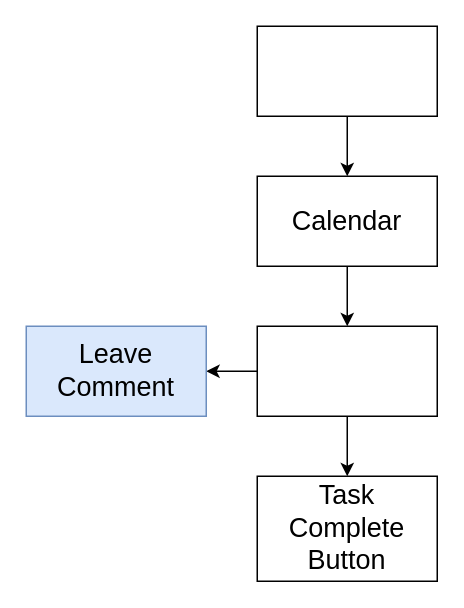
Some shapes in this 464 by 608 pixel diagram are drawn without their labels. The centre of each missing label's shape, as x and y in pixels:
"Login Page" goes at point (346, 70).
"Task Pop-Up" goes at point (346, 370).
